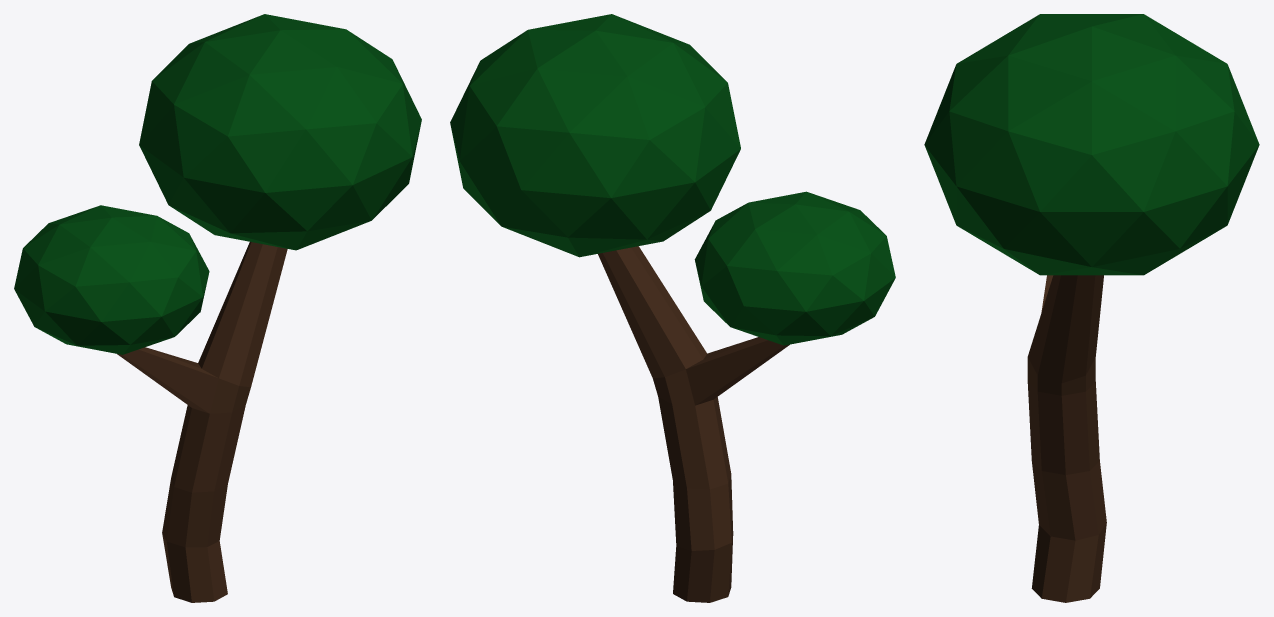
The model's file is Tree.glb.
3 renders of one model, left to right at view 1: azimuth 30°, elevation 25°; view 2: azimuth 150°, elevation 25°; view 3: azimuth 270°, elevation 25°, orthographic. The views are drawn at different scales.
Visible parts, largest first — view 1: Cylinder; view 2: Cylinder; view 3: Cylinder.
Boxes of the visible parts, bbox=[...] form: Cylinder: bbox=[14, 14, 421, 602]; Cylinder: bbox=[450, 14, 895, 602]; Cylinder: bbox=[924, 14, 1259, 602].
Bounding box in the file's own units: 15.04 × 19.9 × 9.84.
